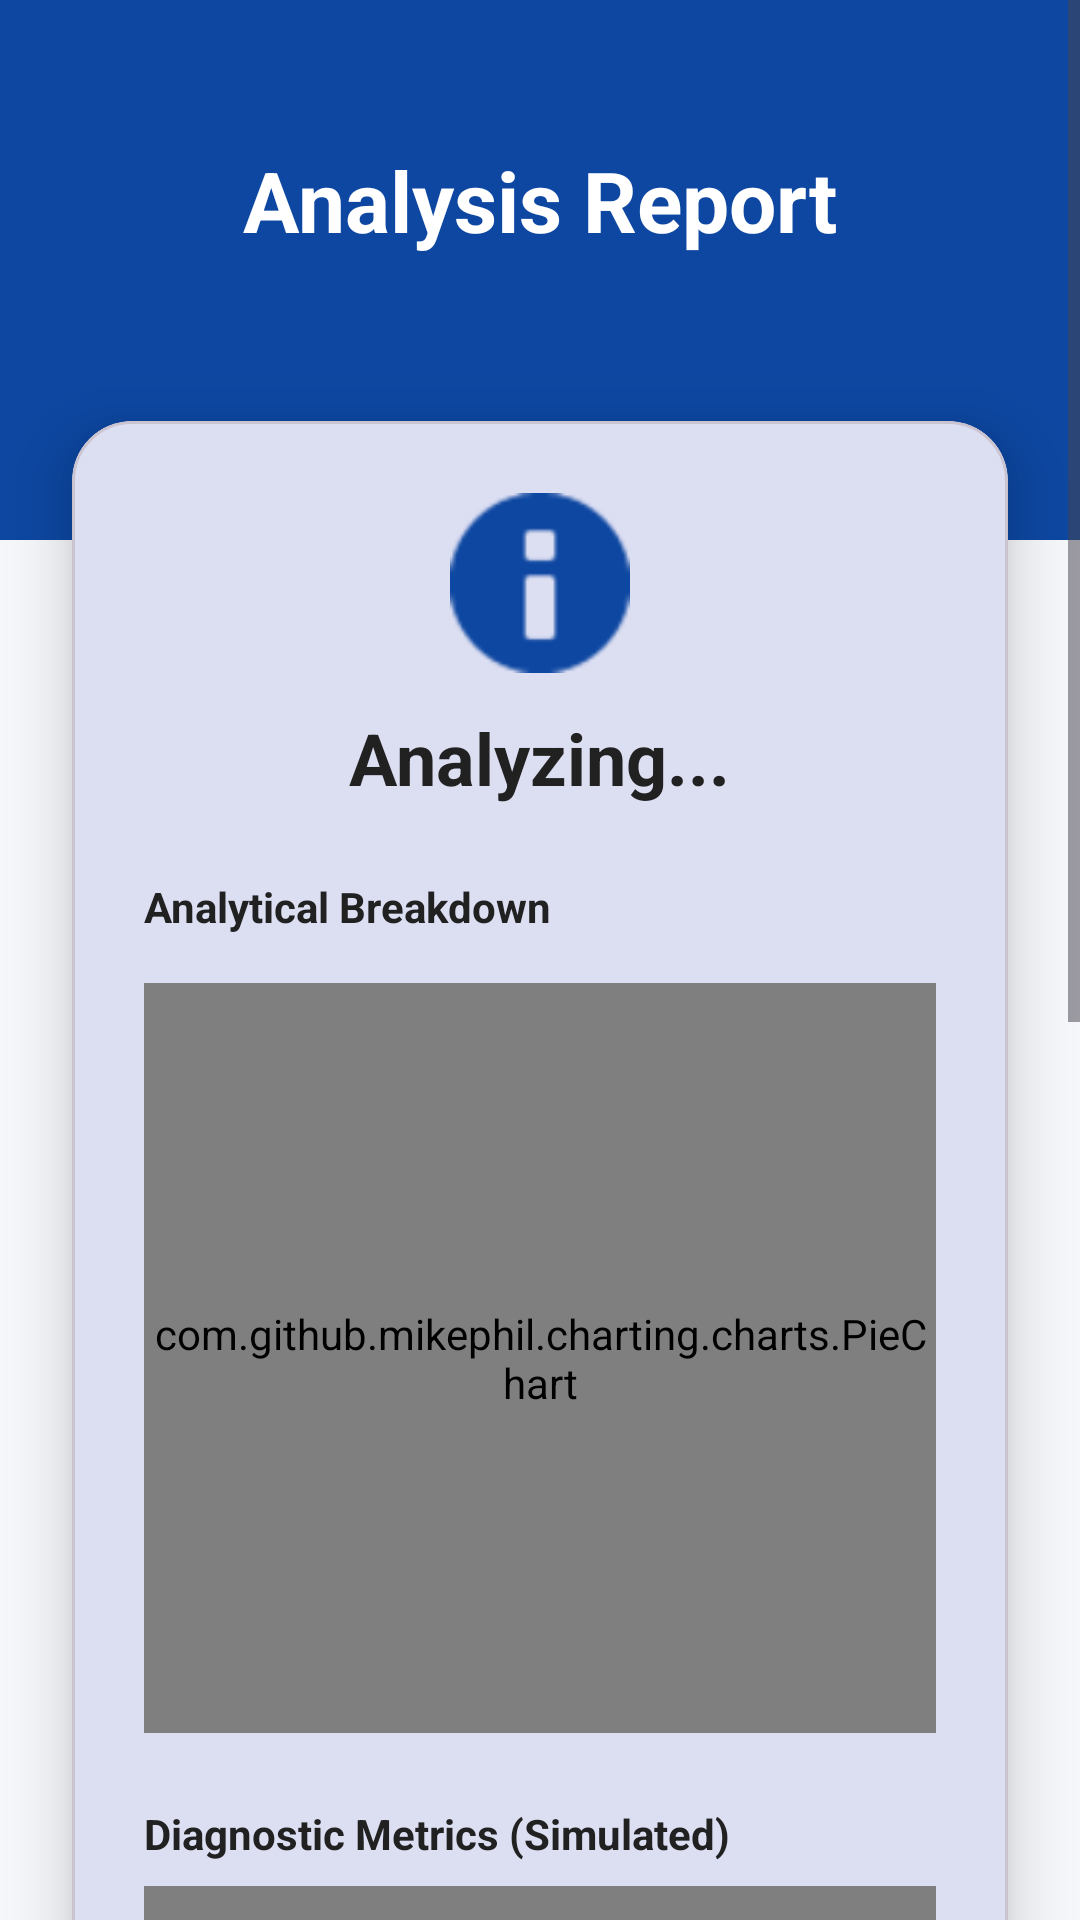

Point at icon controls on the screen. Image size 1080×1920, points as (x,y).
info: (540,583)
